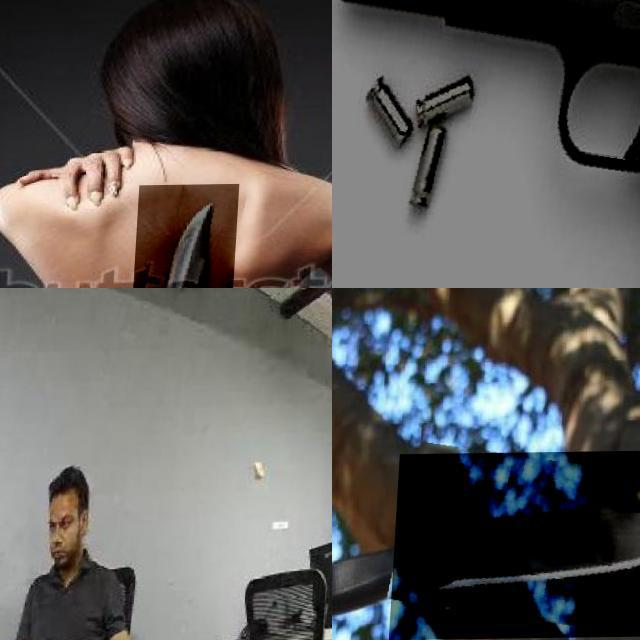-: (393, 451, 640, 640), (133, 184, 242, 288)
gun-knife-thesis - v11 Yolov5 augmented: (332, 0, 640, 288)
